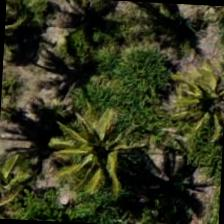Kelapa_Sawit: (39, 100, 134, 195), (164, 57, 223, 151)
